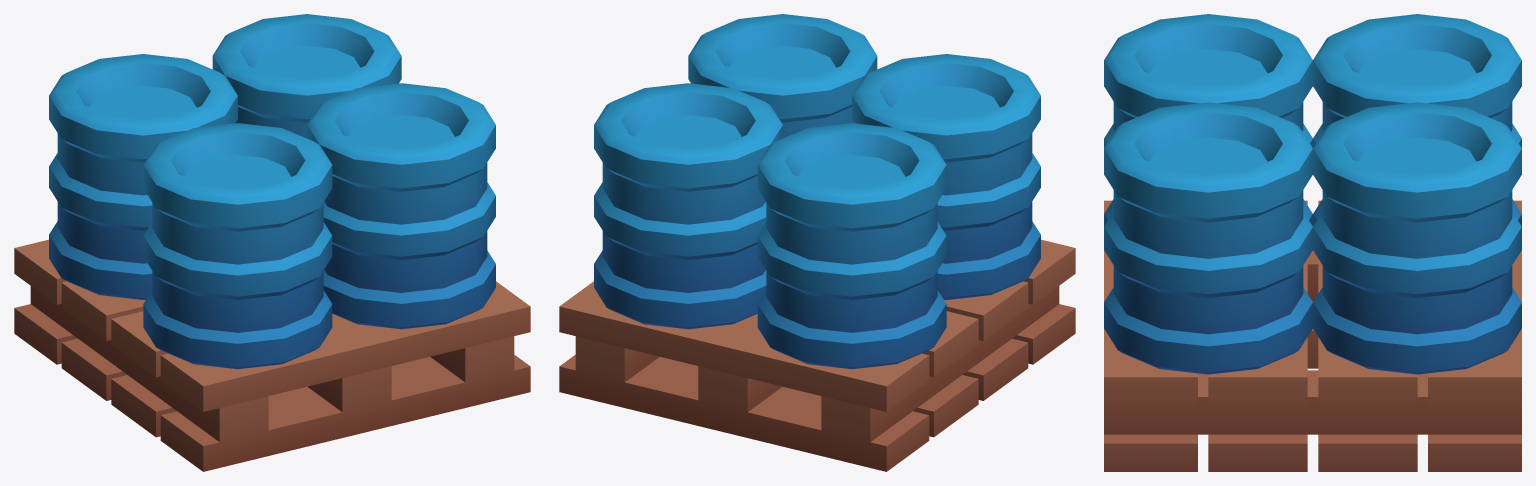
Rendered from pallet-small-decorated-a.glb.
3 views of the same model, side by side, from view 1: azimuth 30°, elevation 25°; view 2: azimuth 150°, elevation 25°; view 3: azimuth 270°, elevation 25° (orthographic). The views are drawn at different scales.
Visible parts, largest first — view 1: Pallet_Small_Decorated_A; view 2: Pallet_Small_Decorated_A; view 3: Pallet_Small_Decorated_A.
Boxes of the visible parts, left/top/right/bottom form: Pallet_Small_Decorated_A: left=14, top=14, right=530, bottom=471; Pallet_Small_Decorated_A: left=559, top=14, right=1075, bottom=471; Pallet_Small_Decorated_A: left=1104, top=14, right=1521, bottom=471.
Size of the model in its own units: 2 by 1.5 by 2.
Materials: 1 (1 with a texture image).
